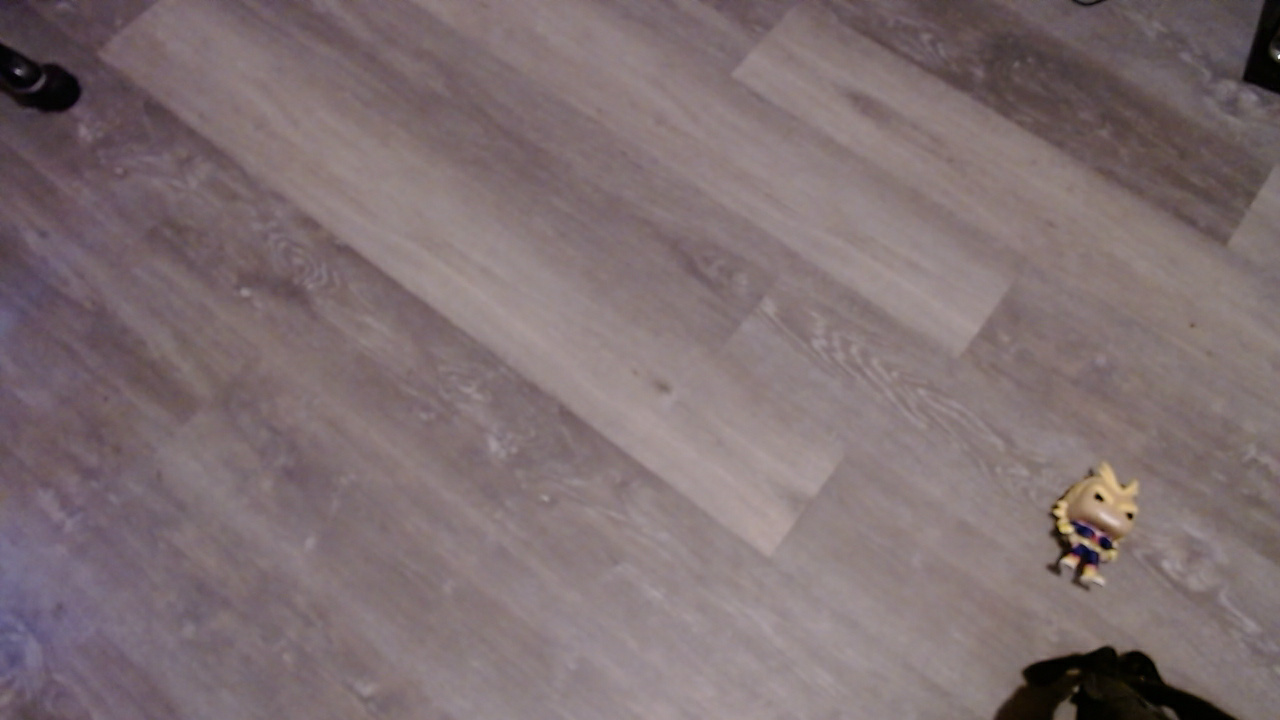all_might: (1055, 464, 1152, 595)
